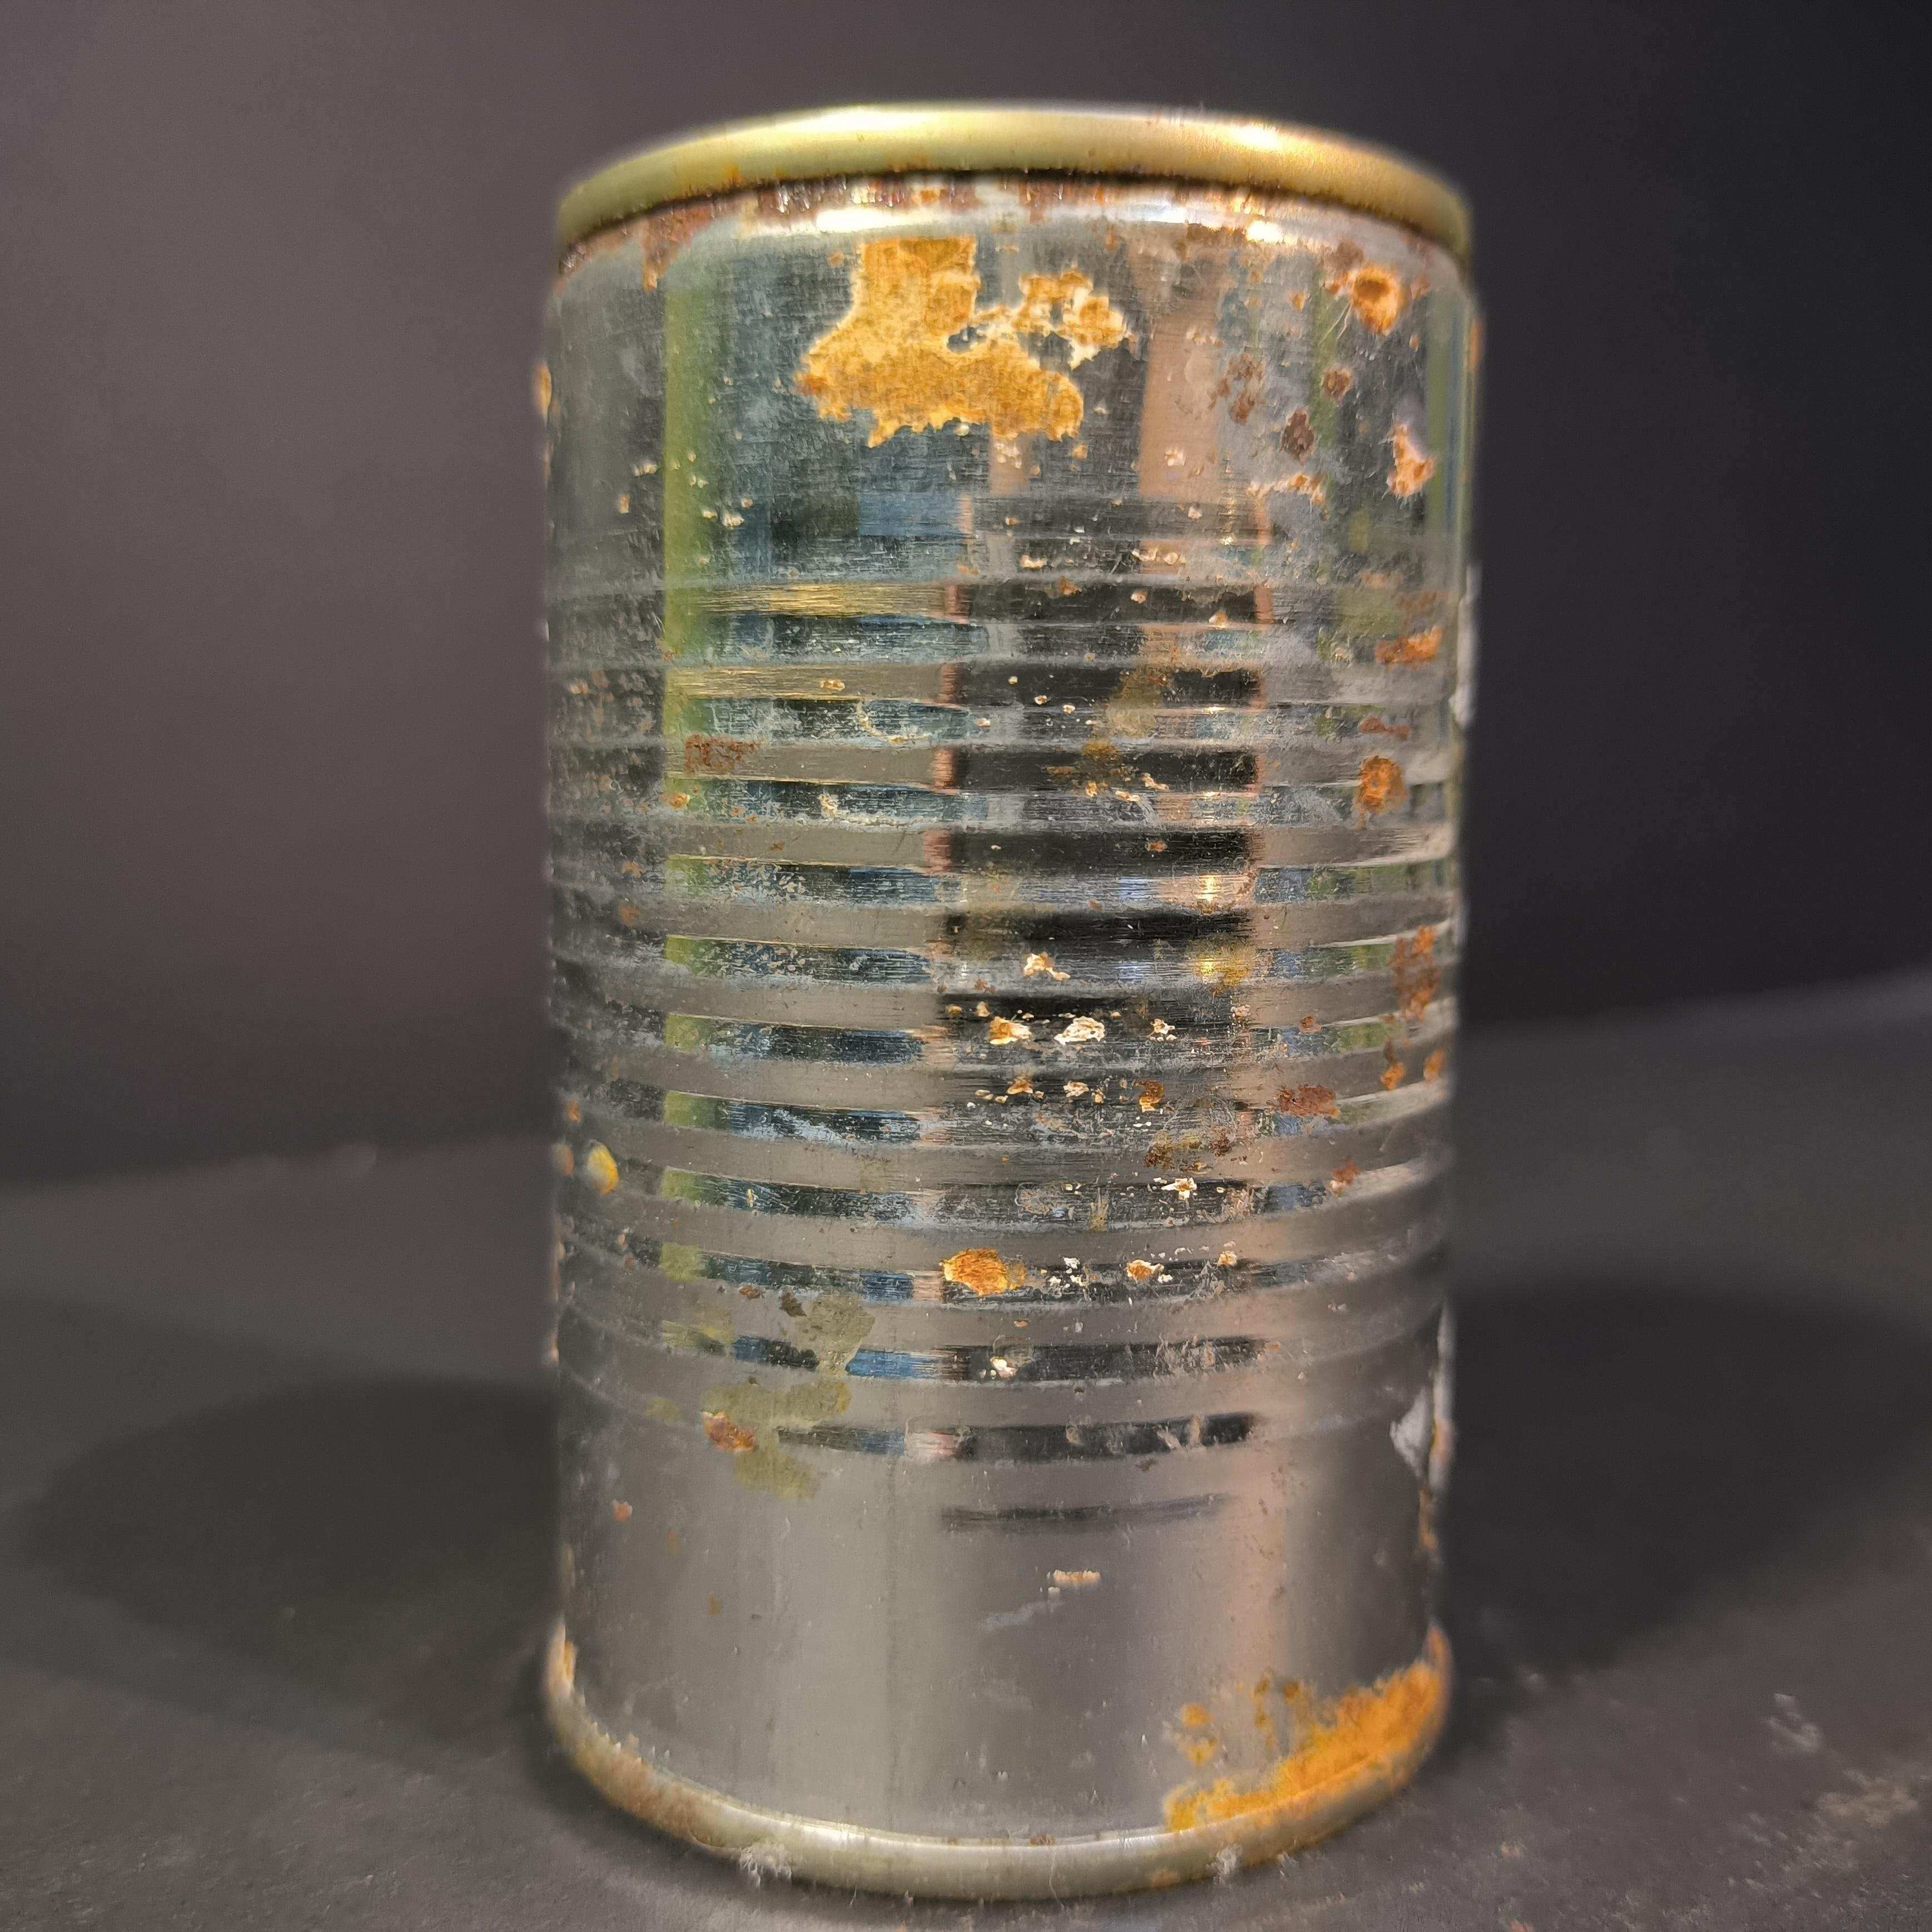Rusted: (506, 74, 1506, 1918)
